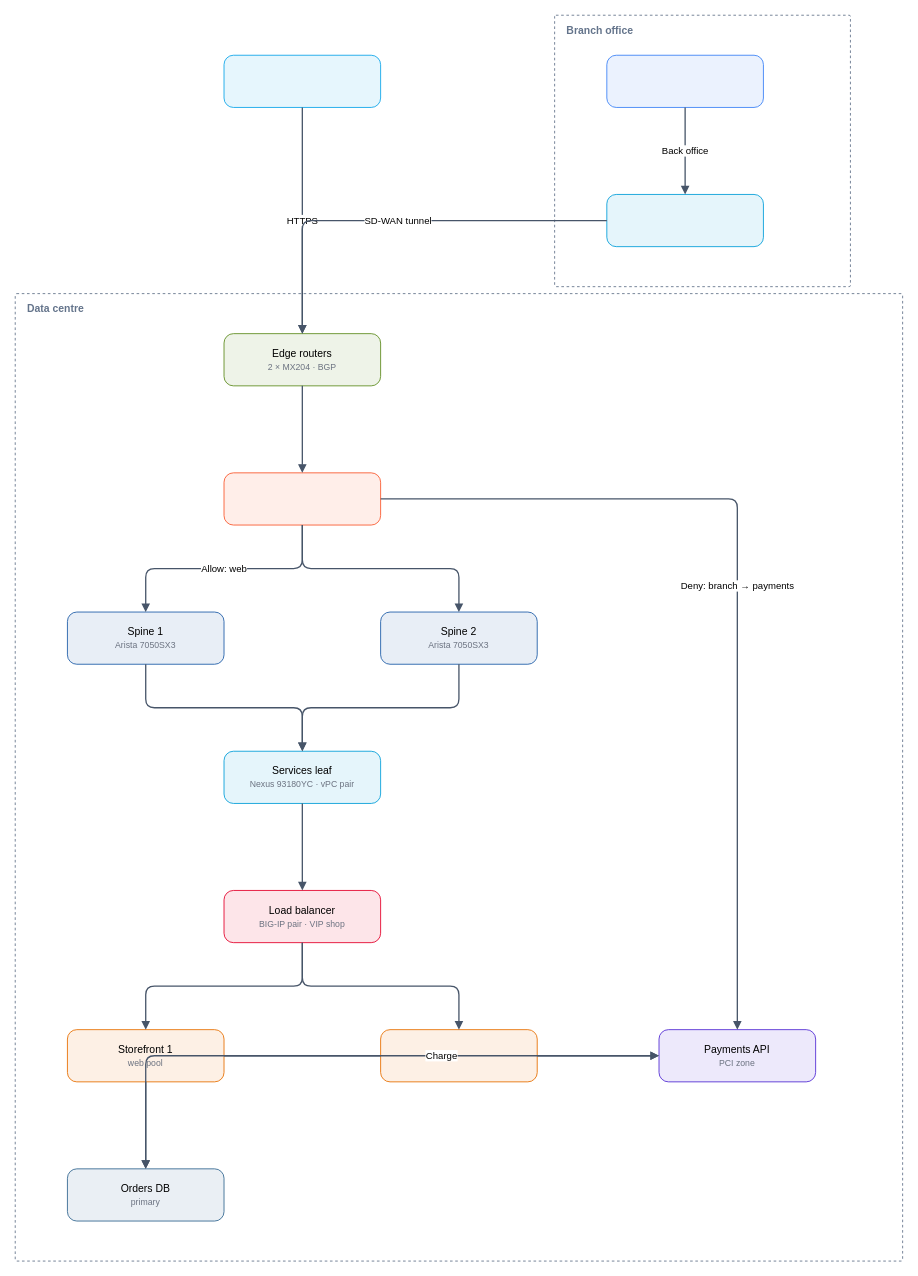
The diagram is 918 pixels wide and 1276 high, and some of its shapes have lost their labels. Each missing label, with the centre of its shape:
Branch router Catalyst 8200 · SD-WAN: (x=684, y=220)
Branch staff 120 desks: (x=684, y=80)
Customers internet: (x=302, y=80)
Firewall pair PA-3440 · active-standby: (x=302, y=498)
Storefront 2 web pool: (x=458, y=1055)
